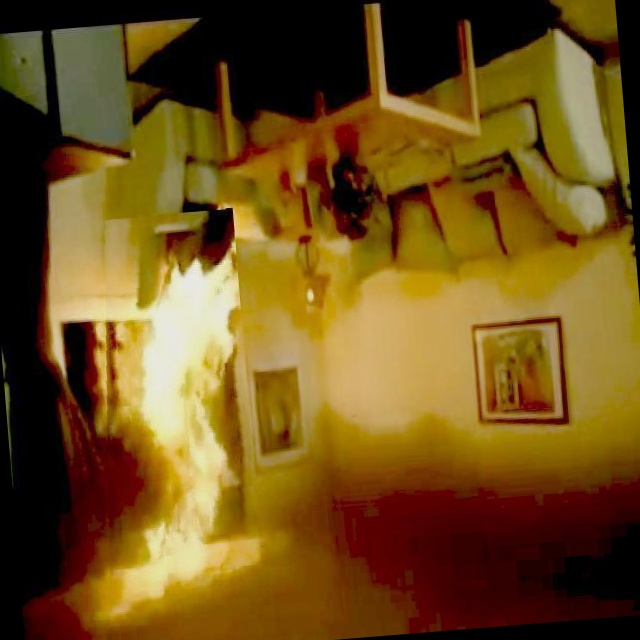fire: (51, 197, 311, 635)
